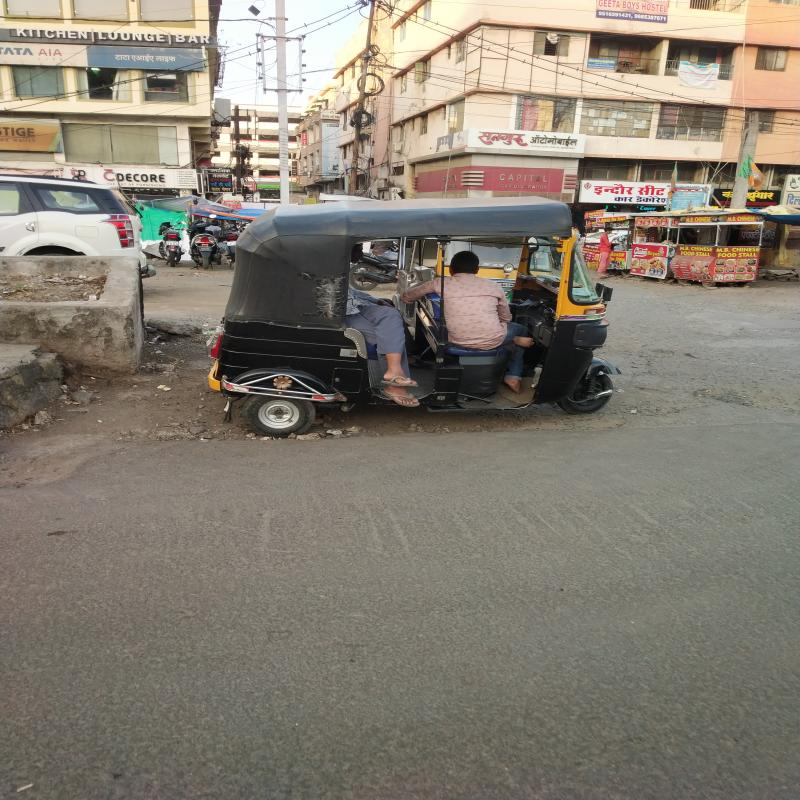auto: (226, 204, 604, 418)
